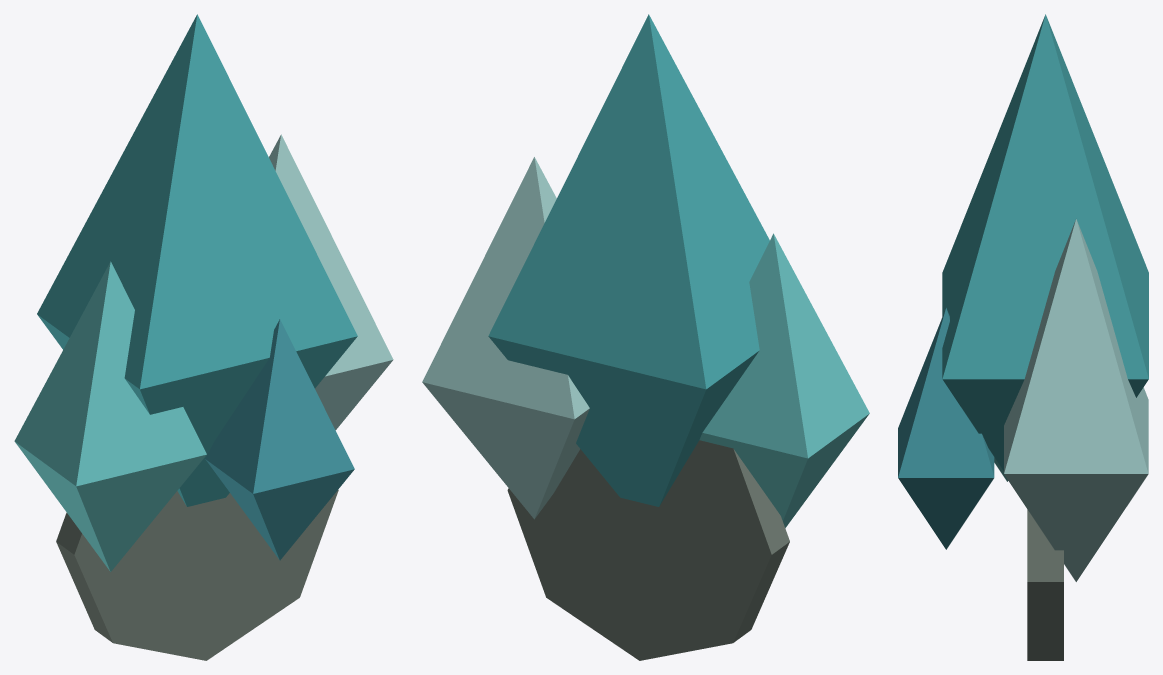
The model's file is ether_crystal_cluster.glb.
3 views of the same model, side by side, from view 1: azimuth 30°, elevation 25°; view 2: azimuth 150°, elevation 25°; view 3: azimuth 270°, elevation 25° (orthographic).
Visible parts, largest first — view 1: EtherCrystal_0, EtherCrystal_1, CrystalBase, EtherCrystal_3, EtherCrystal_2; view 2: EtherCrystal_0, CrystalBase, EtherCrystal_2, EtherCrystal_1; view 3: EtherCrystal_0, EtherCrystal_2, EtherCrystal_3, CrystalBase.
Boxes of the visible parts, x1,y1,x2,y2 form: EtherCrystal_0: (37, 14, 357, 506); EtherCrystal_1: (14, 261, 206, 571); CrystalBase: (56, 490, 338, 660); EtherCrystal_3: (205, 319, 354, 560); EtherCrystal_2: (269, 134, 393, 430); EtherCrystal_0: (488, 14, 769, 506); CrystalBase: (507, 440, 789, 660); EtherCrystal_2: (422, 157, 589, 519); EtherCrystal_1: (699, 233, 869, 527); EtherCrystal_0: (942, 14, 1148, 470); EtherCrystal_2: (1004, 219, 1148, 581); EtherCrystal_3: (898, 308, 994, 549); CrystalBase: (1027, 509, 1063, 660).
Size of the model in its own units: 2.62 by 4.63 by 1.64.
